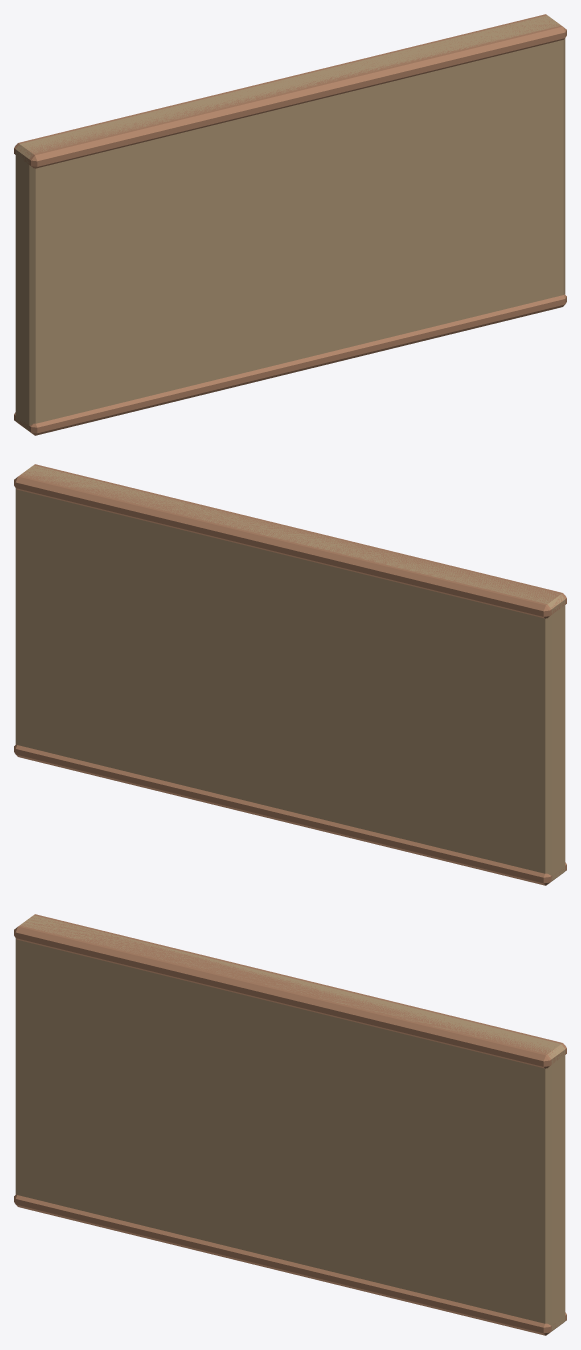
Rendered from pediment_narrow.glb.
The picture shows the model from 3 angles, top to bottom: view 1: azimuth 30°, elevation 25°; view 2: azimuth 150°, elevation 25°; view 3: azimuth 330°, elevation 25°; orthographic projection.
Visible parts, largest first — view 1: pediment_narrow; view 2: pediment_narrow; view 3: pediment_narrow.
Boxes of the visible parts, bbox=[...] form: pediment_narrow: bbox=[14, 14, 566, 435]; pediment_narrow: bbox=[14, 464, 566, 885]; pediment_narrow: bbox=[14, 914, 566, 1335].
Size of the model in its own units: 2 by 1 by 0.14.
